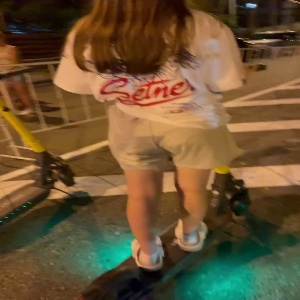human on a scooter: (52, 1, 269, 300)
